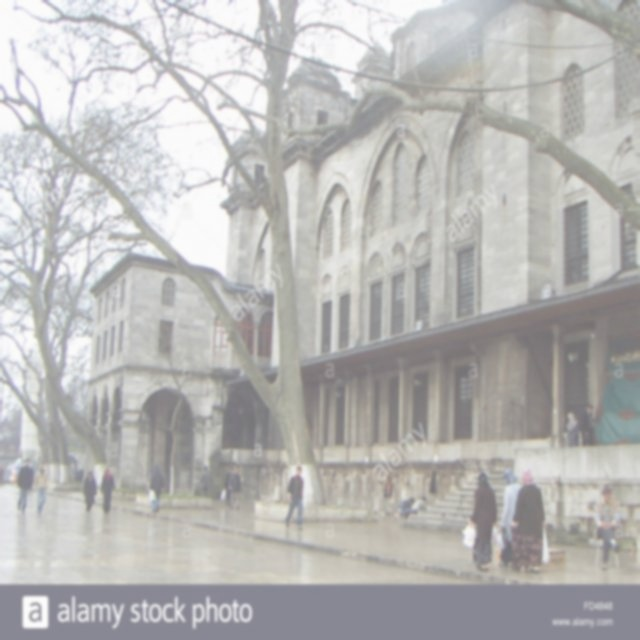pessoa: (507, 468, 550, 576), (468, 471, 497, 571), (592, 482, 623, 570), (498, 468, 522, 568), (284, 464, 304, 530), (33, 460, 51, 516), (16, 456, 33, 514), (148, 462, 164, 514), (81, 470, 98, 515), (100, 468, 116, 514), (227, 466, 242, 512), (581, 404, 594, 447), (566, 411, 580, 447), (224, 466, 234, 508), (199, 465, 212, 497), (397, 497, 415, 518), (411, 496, 426, 515), (74, 467, 84, 483), (30, 466, 34, 492)
